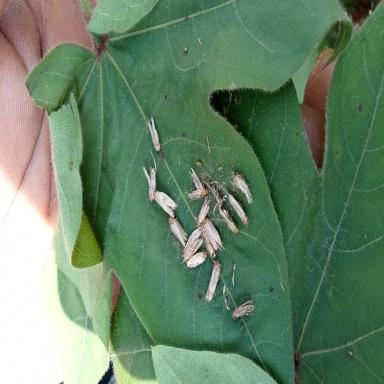pbw: (202, 217, 225, 251), (181, 228, 202, 264), (228, 192, 249, 226), (232, 170, 252, 204), (152, 189, 176, 217), (187, 168, 208, 200), (168, 216, 188, 248), (206, 261, 221, 300), (143, 162, 158, 201), (218, 206, 238, 234), (200, 228, 216, 258), (232, 298, 254, 319), (147, 116, 160, 151), (196, 195, 210, 226), (186, 252, 208, 268), (210, 182, 223, 208)
